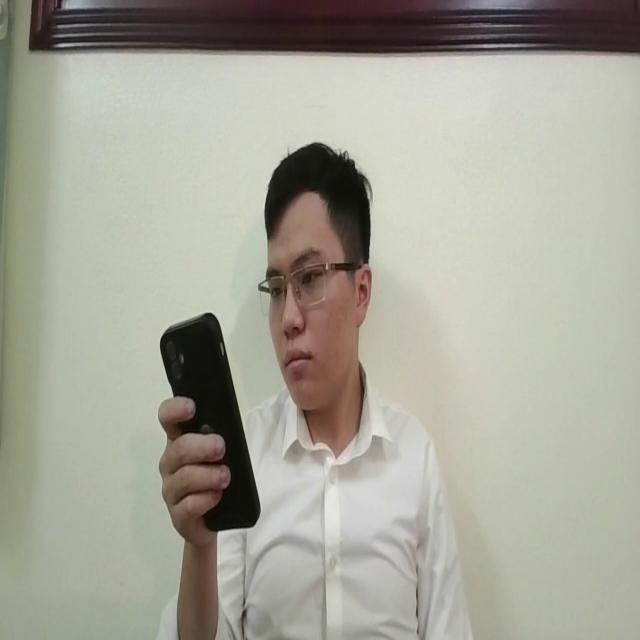phone: (156, 306, 262, 536)
student: (161, 139, 480, 640)
